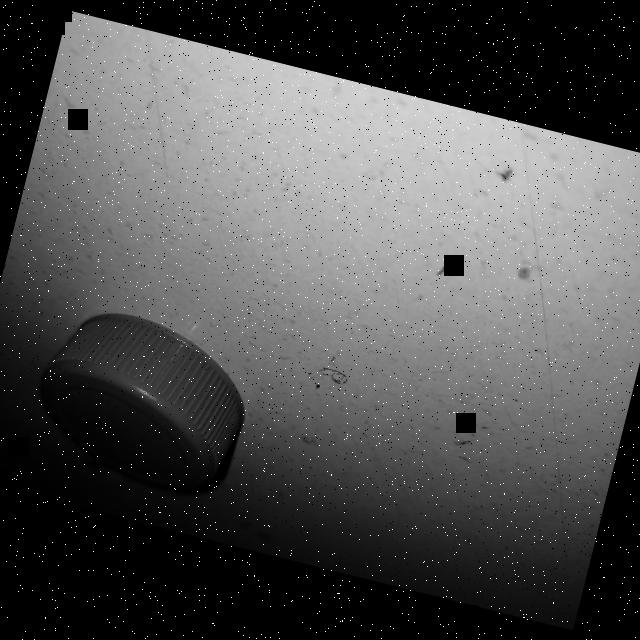plastic_bottle_cap: (20, 296, 262, 506)
